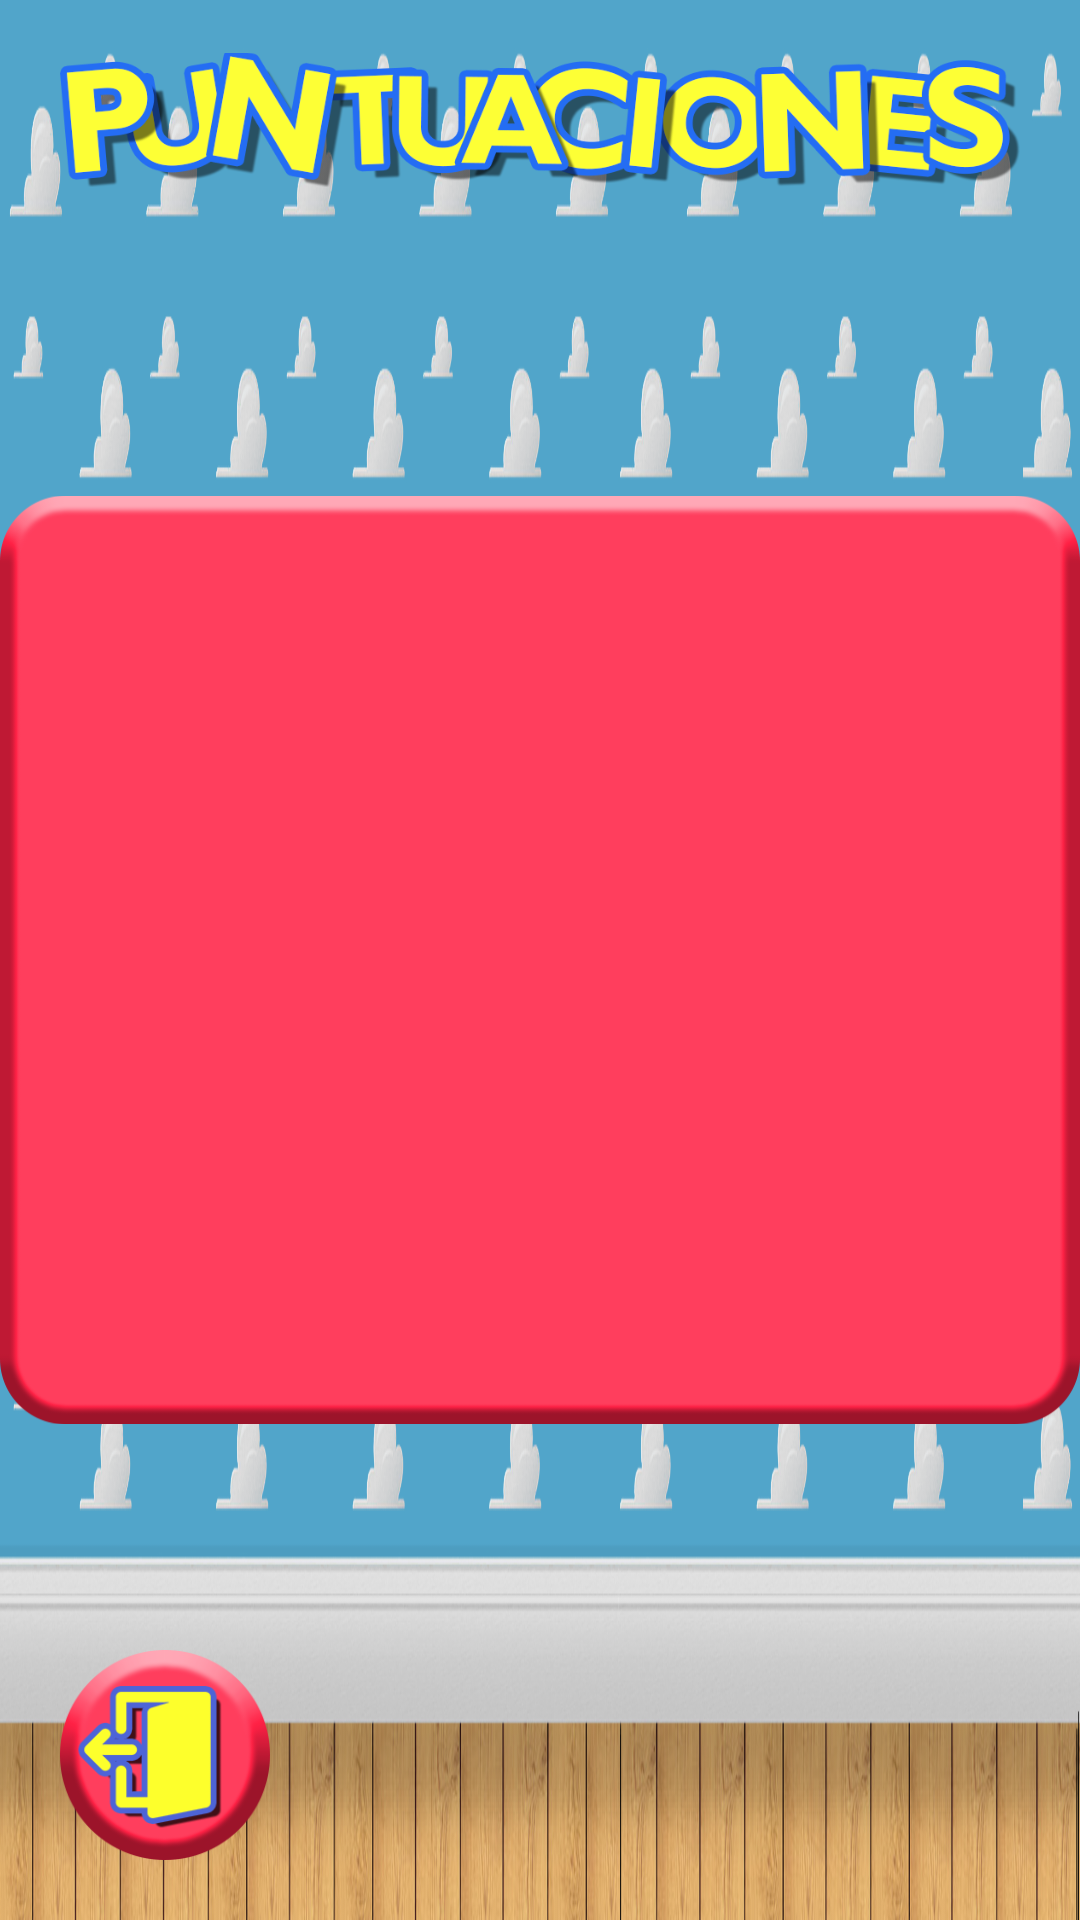

Named icons in this screenshot (1080×1920) and their centers, (x,y):
bot nsalir: (165,1755)
